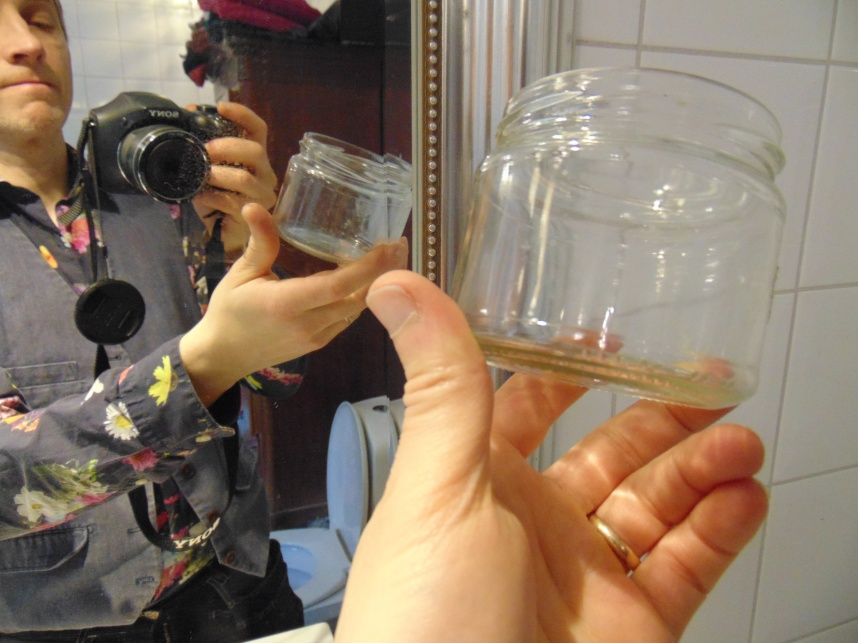glass_bottle: (448, 66, 784, 409), (272, 128, 409, 267)
